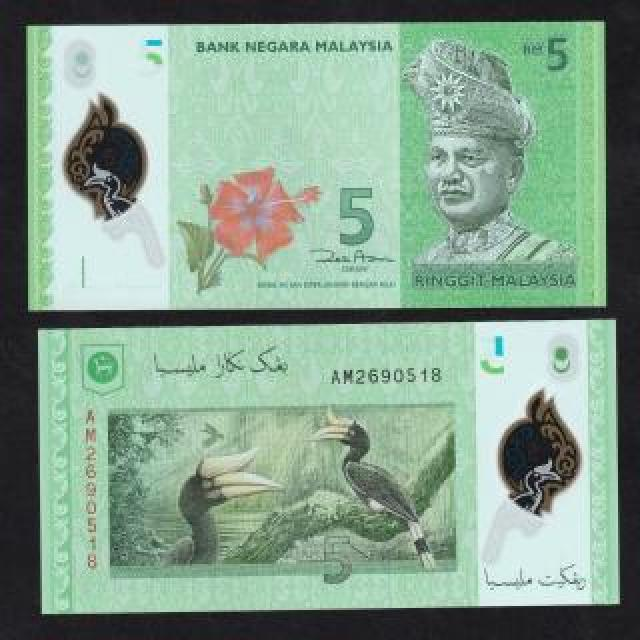5 Ringgit: (26, 20, 609, 308), (48, 320, 625, 607)
